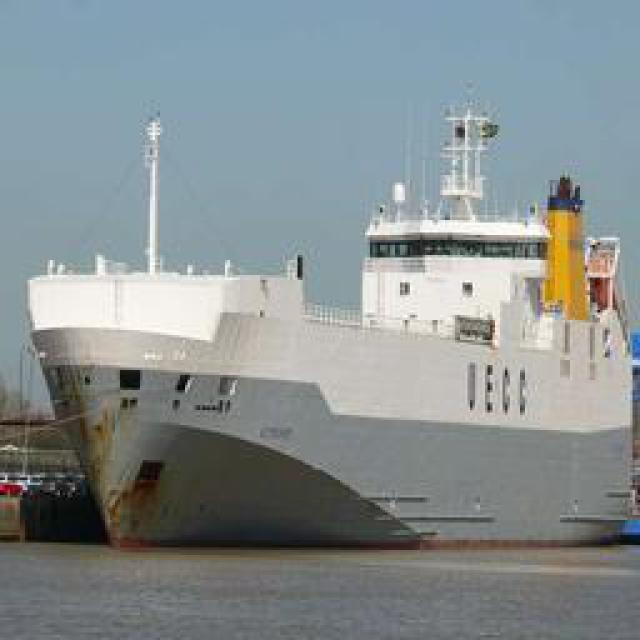Ship: (21, 85, 631, 555)
